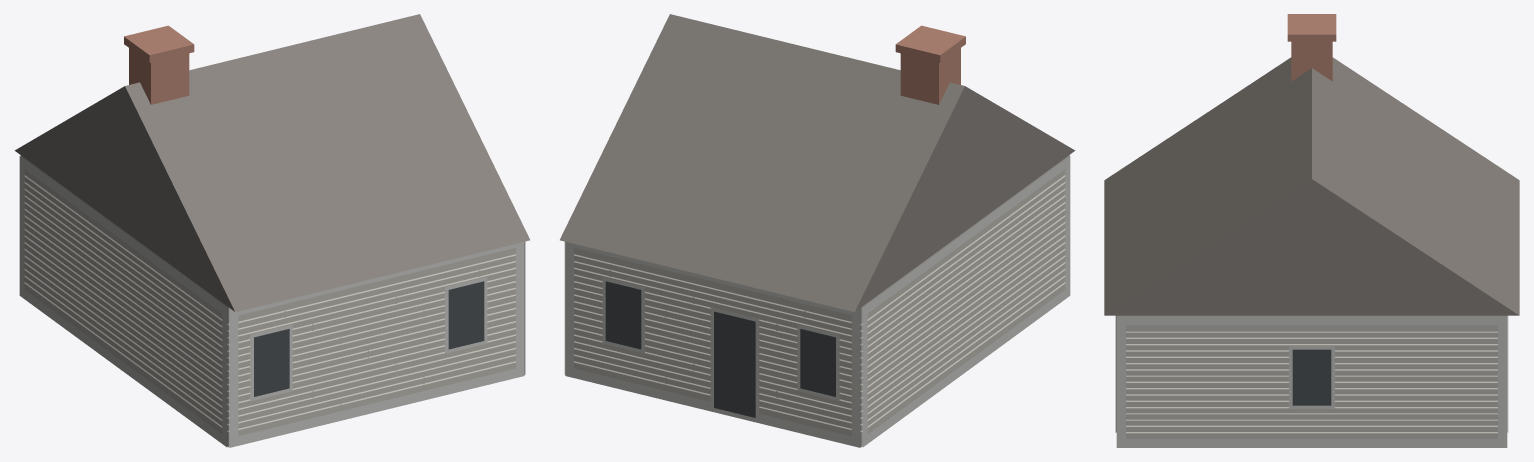
File: recon_1835_blk_lake_market_d4_02__inferred_1835.glb
3 renders of one model, left to right at view 1: azimuth 30°, elevation 25°; view 2: azimuth 150°, elevation 25°; view 3: azimuth 270°, elevation 25°, orthographic. The views are drawn at different scales.
Parts seen in each view (by area): view 1: recon_1835_blk_lake_market_d4_02__inferred_1835; view 2: recon_1835_blk_lake_market_d4_02__inferred_1835; view 3: recon_1835_blk_lake_market_d4_02__inferred_1835.
Boxes of the visible parts, x1,y1,x2,y2 form: recon_1835_blk_lake_market_d4_02__inferred_1835: [14, 14, 529, 447]; recon_1835_blk_lake_market_d4_02__inferred_1835: [560, 14, 1075, 447]; recon_1835_blk_lake_market_d4_02__inferred_1835: [1104, 14, 1519, 447].
Size of the model in its own units: 6.55 by 6.76 by 8.39.
